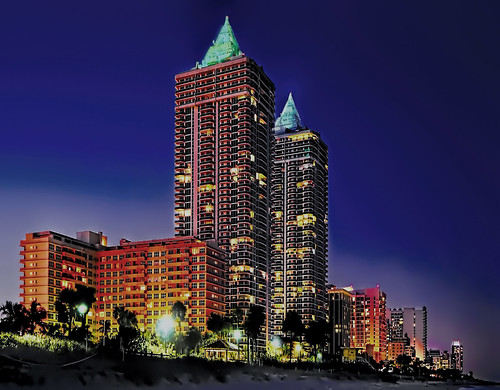low: (170, 31, 278, 359), (265, 129, 332, 363)
